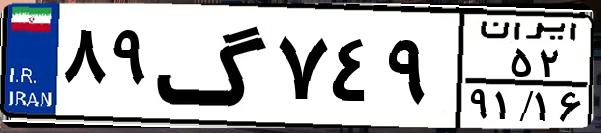1: (495, 70, 520, 125), (535, 70, 560, 125)
2: (537, 27, 568, 80)
4: (330, 28, 385, 110)
5: (508, 27, 537, 80)
6: (560, 70, 590, 125)
7: (270, 28, 330, 110)
8: (57, 26, 110, 100)
9: (385, 28, 445, 110), (110, 28, 156, 98), (470, 70, 495, 125)
گ: (156, 12, 270, 120)
